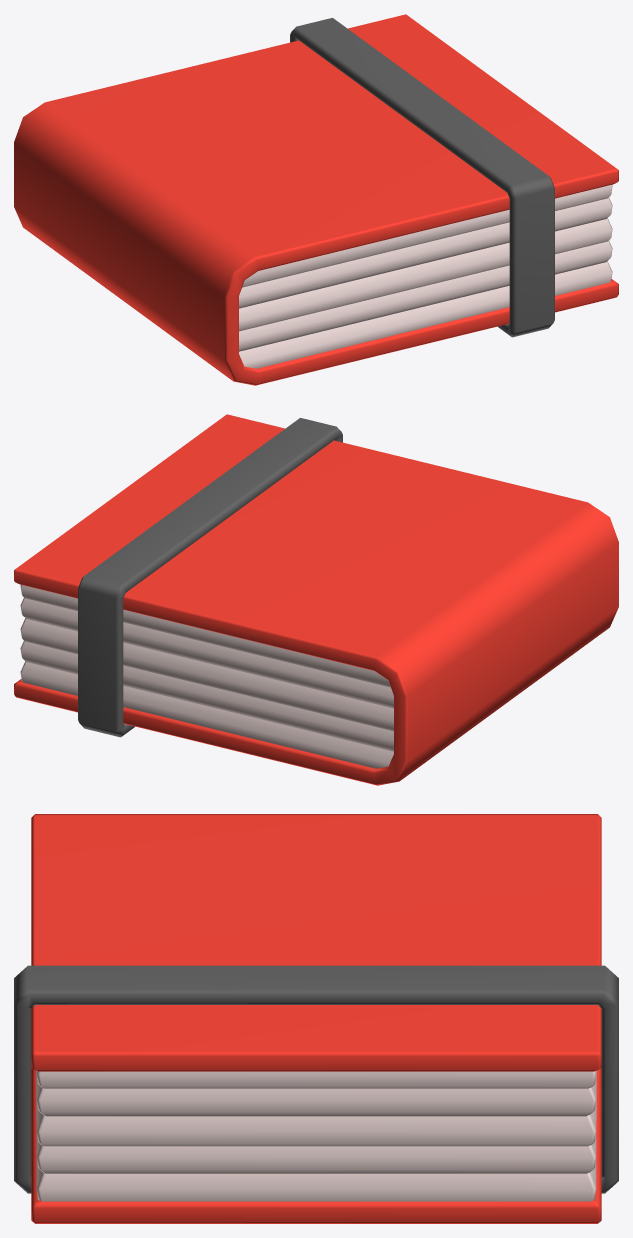
The model's file is Public_17_Diary_1.glb.
The picture shows the model from 3 angles, top to bottom: view 1: azimuth 30°, elevation 25°; view 2: azimuth 150°, elevation 25°; view 3: azimuth 270°, elevation 25°; orthographic projection. The views are drawn at different scales.
Visible parts, largest first — view 1: Public_17_Diary_1; view 2: Public_17_Diary_1; view 3: Public_17_Diary_1.
Boxes of the visible parts, box(x1,y1,x2,y2) form: Public_17_Diary_1: box(14, 14, 618, 385); Public_17_Diary_1: box(14, 414, 618, 785); Public_17_Diary_1: box(14, 814, 618, 1223).
Size of the model in its own units: 1.07 by 0.3956 by 1.06.
Materials: 1 (1 with a texture image).
